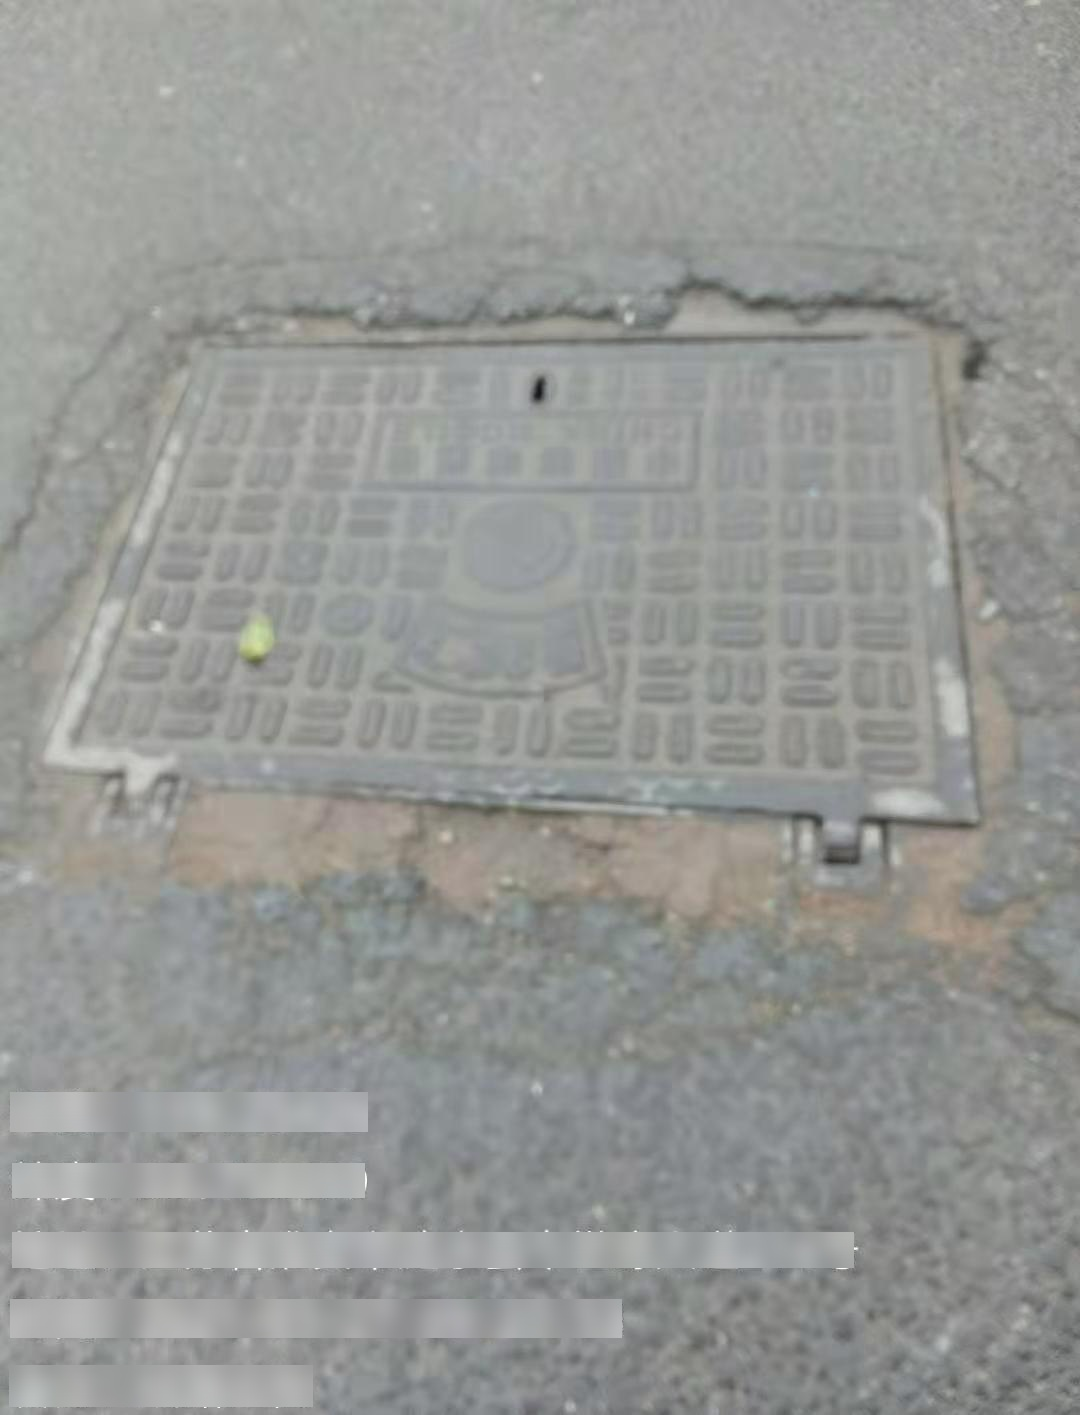good: (37, 318, 982, 885)
